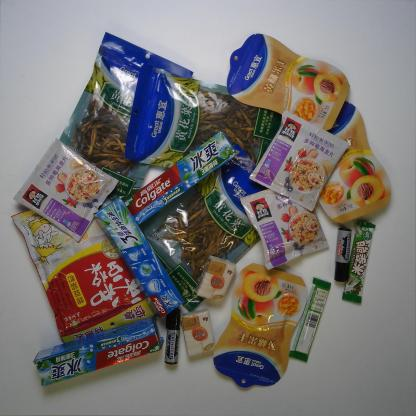Chocolate: (288, 277, 332, 363), (340, 218, 376, 304)
Dried Food: (57, 31, 194, 202), (139, 140, 266, 312), (124, 63, 284, 169)
Dried Fruit: (225, 32, 351, 132), (212, 261, 309, 389), (318, 100, 393, 225)
Instant Drink: (10, 209, 157, 344), (12, 138, 120, 242), (248, 110, 350, 212), (239, 187, 330, 271)
Personal Hygiene: (92, 195, 187, 320), (122, 130, 240, 225), (33, 316, 165, 387)
Stationery: (163, 307, 182, 366), (334, 227, 352, 283)
Tissue: (194, 254, 236, 302), (180, 307, 216, 357)
